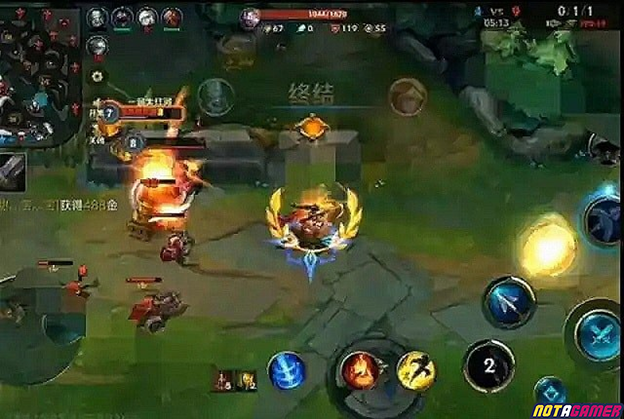bar: (98, 98, 190, 123), (121, 132, 209, 154)
